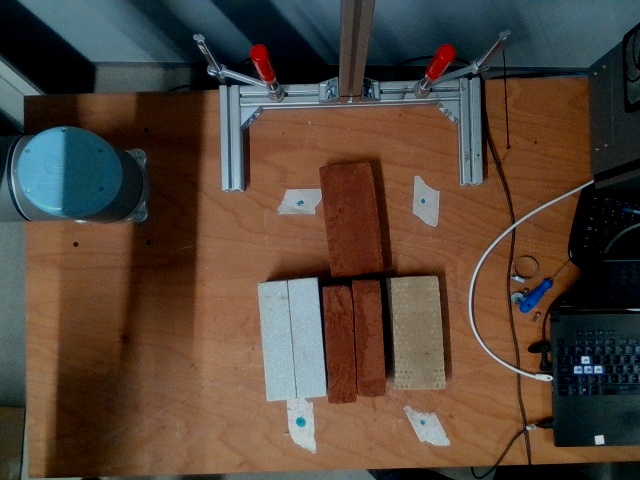brick: (322, 163, 383, 279), (391, 277, 446, 391)
brick-side: (257, 280, 298, 400), (287, 279, 327, 399), (353, 279, 386, 396), (323, 286, 356, 403)
